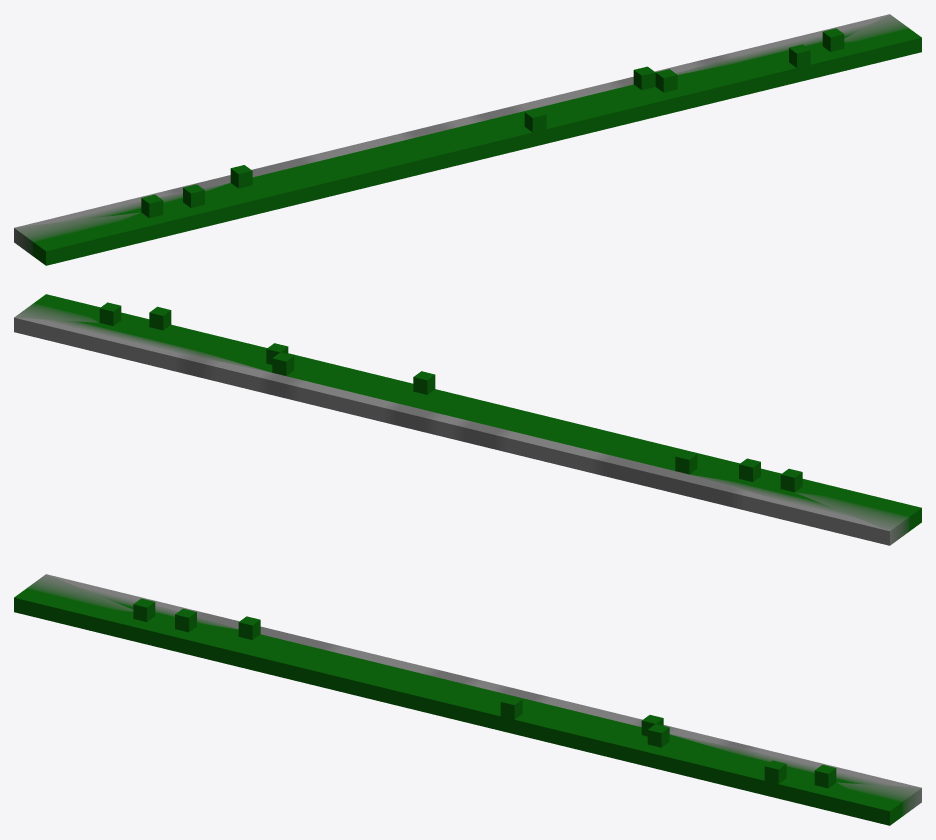
The model's file is obj_curb6.fbx.
The picture shows the model from 3 angles, top to bottom: view 1: azimuth 30°, elevation 25°; view 2: azimuth 150°, elevation 25°; view 3: azimuth 330°, elevation 25°; orthographic projection.
Visible parts, largest first — view 1: obj_curb6; view 2: obj_curb6; view 3: obj_curb6.
Part boxes in pixels (left/top/right/bottom): obj_curb6: left=14, top=14, right=921, bottom=265; obj_curb6: left=14, top=294, right=921, bottom=545; obj_curb6: left=14, top=574, right=921, bottom=825.
Size of the model in its own units: 6.3 by 0.4 by 0.2.
1 material, 1 textured.
